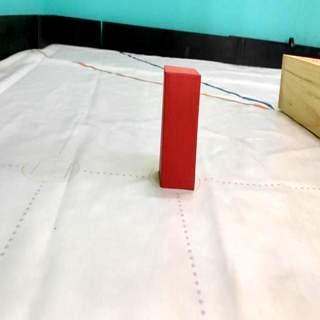redbox: (160, 66, 200, 190)
